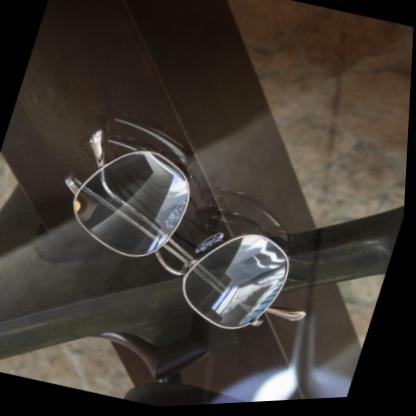Spectacles: (31, 114, 354, 360)
